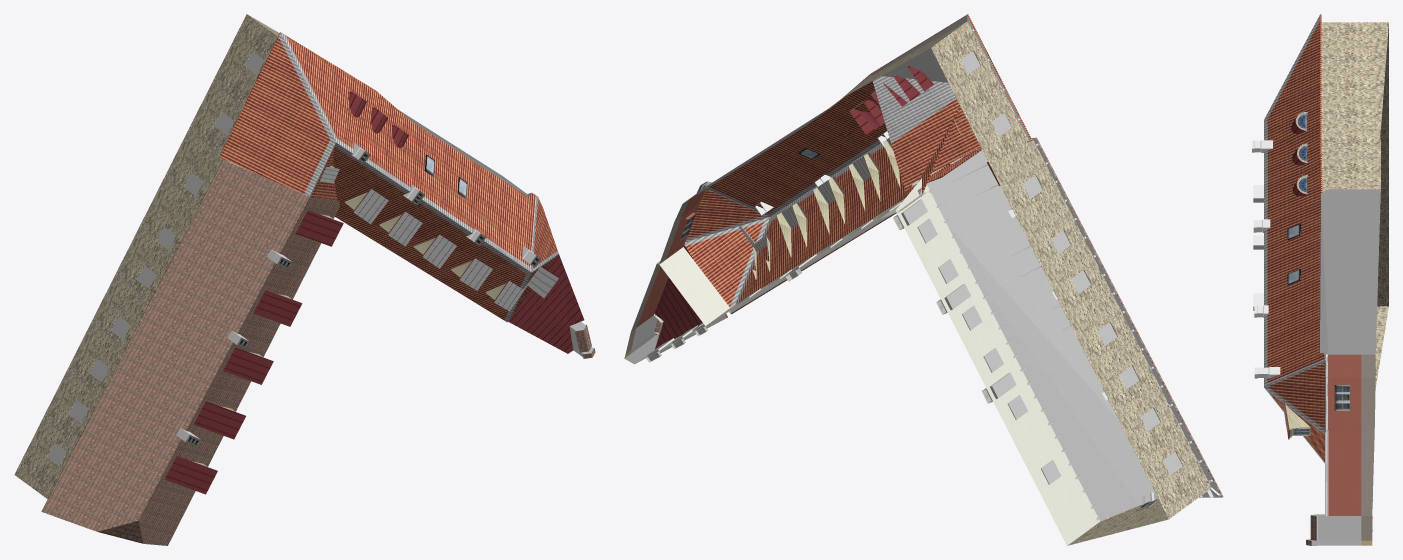
File: Toom-Kooli_21_2.obj
3 views of the same model, side by side, from view 1: azimuth 30°, elevation 25°; view 2: azimuth 150°, elevation 25°; view 3: azimuth 270°, elevation 25° (orthographic). The views are drawn at different scales.
Visible parts, largest first — view 1: Toom_Kooli_21_2; view 2: Toom_Kooli_21_2; view 3: Toom_Kooli_21_2.
Part boxes in pixels (box(x1,y1,x2,y2)): Toom_Kooli_21_2: box(14, 14, 595, 545); Toom_Kooli_21_2: box(624, 14, 1223, 545); Toom_Kooli_21_2: box(1252, 14, 1388, 545).
Bounding box in the file's own units: 44.47 × 36.9 × 9.72.
